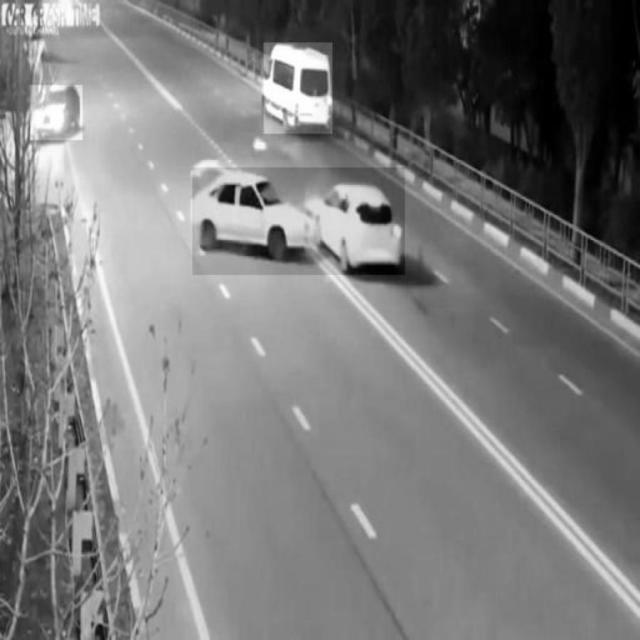accident: (192, 167, 406, 275)
vehicle: (264, 43, 332, 134), (30, 85, 82, 140)
